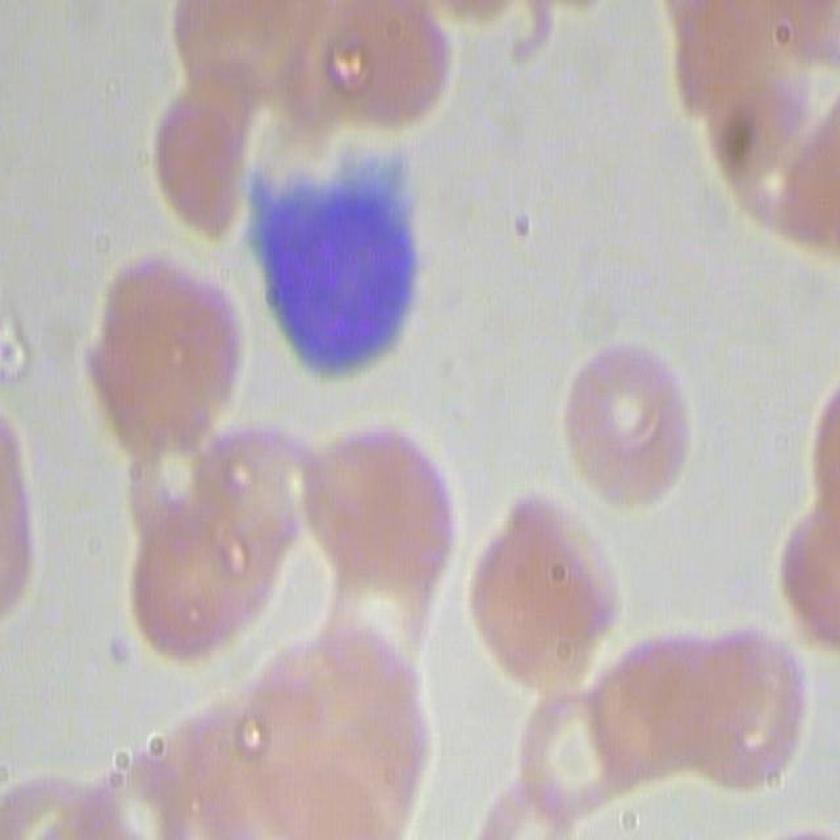lymphocyte: (236, 121, 438, 375)
